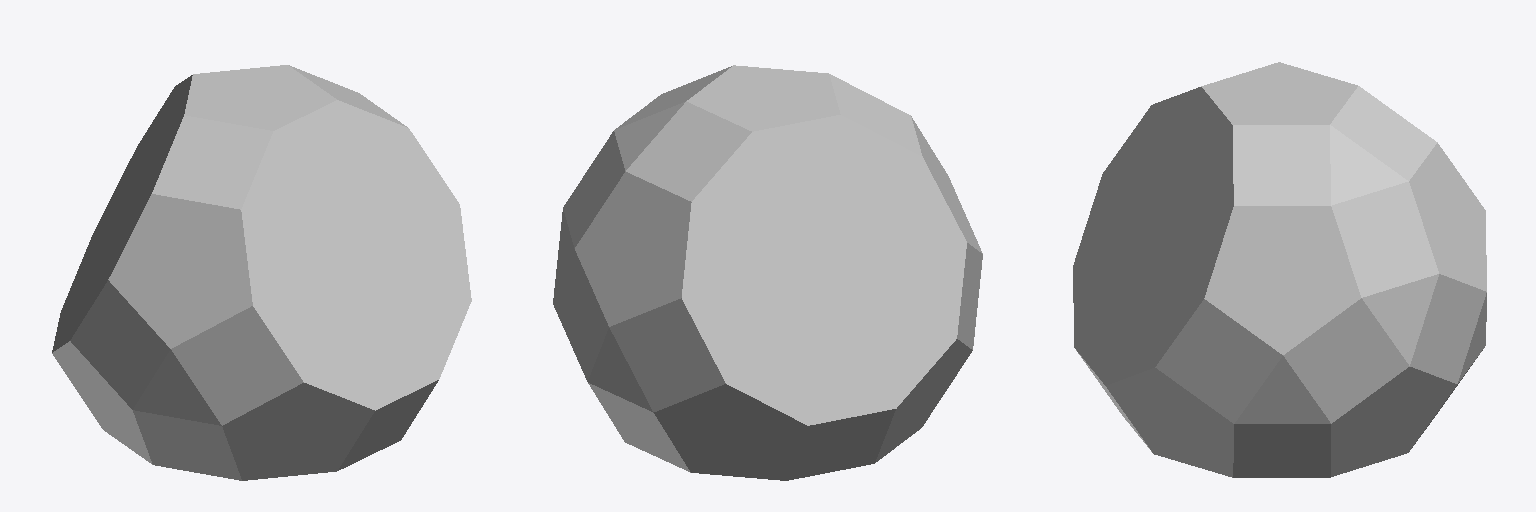
The model's file is TridiminishedRhombIcosiDodecahedron.obj.
3 views of the same model, side by side, from view 1: azimuth 30°, elevation 25°; view 2: azimuth 150°, elevation 25°; view 3: azimuth 270°, elevation 25° (orthographic).
Parts seen in each view (by area): view 1: TriDiminishedRhombIcosiDodecahedron; view 2: TriDiminishedRhombIcosiDodecahedron; view 3: TriDiminishedRhombIcosiDodecahedron.
Boxes of the visible parts, x1,y1,x2,y2 form: TriDiminishedRhombIcosiDodecahedron: [52, 65, 471, 480]; TriDiminishedRhombIcosiDodecahedron: [553, 65, 982, 480]; TriDiminishedRhombIcosiDodecahedron: [1073, 62, 1486, 477].
Size of the model in its own units: 3.34 by 2.71 by 3.19.